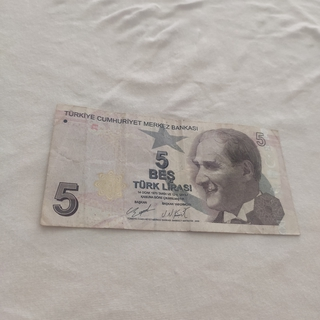5TLFront: (39, 104, 300, 236)
